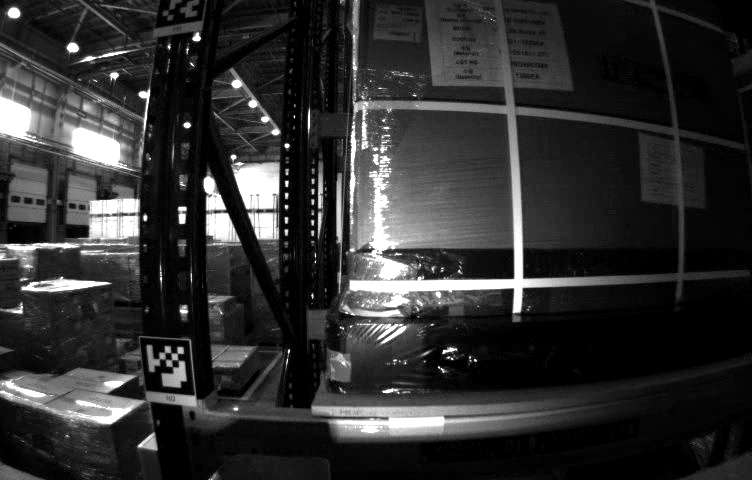True Barcode: (375, 1, 423, 42)
